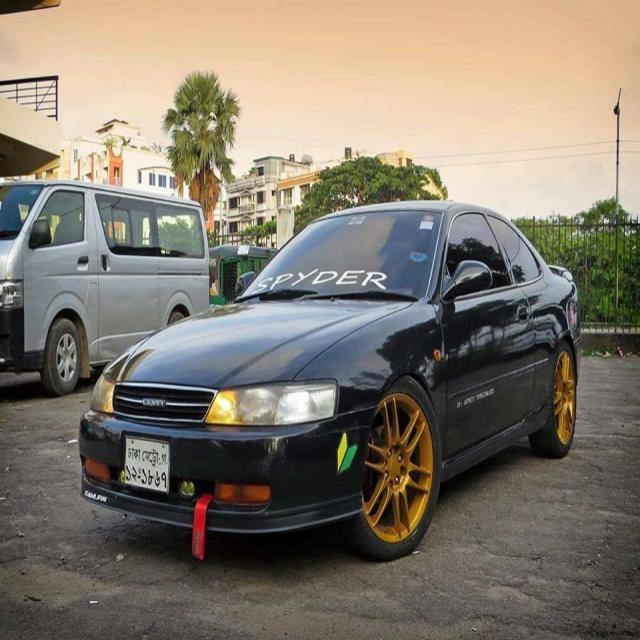numberplate: (122, 434, 170, 494)
